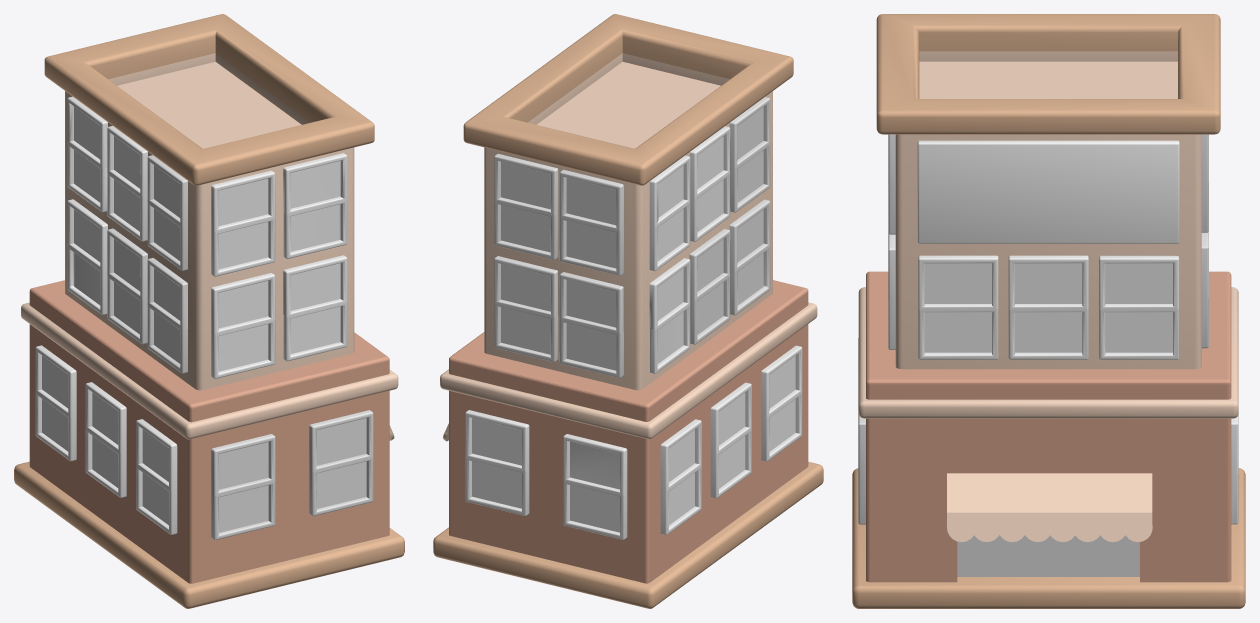
Rendered from Building_1.gltf.
3 views of the same model, side by side, from view 1: azimuth 30°, elevation 25°; view 2: azimuth 150°, elevation 25°; view 3: azimuth 270°, elevation 25° (orthographic). The views are drawn at different scales.
Visible parts, largest first — view 1: Cube (×4), Cube.4 (×10), Cube.2 (×2), Cube.13, Cube.11, Cube.12, Cube.1; view 2: Cube (×4), Cube.4 (×10), Cube.2 (×2), Cube.13, Cube.11, Cube.12, Cube.1; view 3: Cube (×3), Cube.4 (×8), Cube.2, Cube.13, Cube.3, Cube.11, Connect, Cube.12.
Boxes of the visible parts, x1=… form: Cube (×4): x1=29, y1=153, x2=389, y2=583; Cube.4 (×10): x1=67, y1=96, x2=373, y2=540; Cube.2 (×2): x1=65, y1=53, x2=354, y2=534; Cube.13: x1=44, y1=14, x2=374, y2=185; Cube.11: x1=14, y1=461, x2=404, y2=608; Cube.12: x1=21, y1=302, x2=398, y2=439; Cube.1: x1=85, y1=382, x2=126, y2=497; Cube (×4): x1=449, y1=154, x2=808, y2=583; Cube.4 (×10): x1=465, y1=97, x2=770, y2=539; Cube.2 (×2): x1=484, y1=53, x2=802, y2=461; Cube.13: x1=463, y1=14, x2=793, y2=185; Cube.11: x1=433, y1=462, x2=823, y2=608; Cube.12: x1=440, y1=302, x2=817, y2=439; Cube.1: x1=710, y1=382, x2=751, y2=498; Cube (×3): x1=866, y1=134, x2=1231, y2=582; Cube.4 (×8): x1=858, y1=231, x2=1238, y2=576; Cube.2: x1=895, y1=51, x2=1201, y2=369; Cube.13: x1=876, y1=14, x2=1220, y2=134; Cube.3: x1=917, y1=140, x2=1179, y2=243; Cube.11: x1=852, y1=468, x2=1245, y2=608; Connect: x1=947, y1=473, x2=1152, y2=542; Cube.12: x1=858, y1=287, x2=1238, y2=418.
Size of what is drawn, in the model's own units: 264 by 430 by 314.
